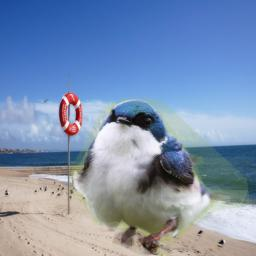Swallow: (70, 98, 250, 255)
